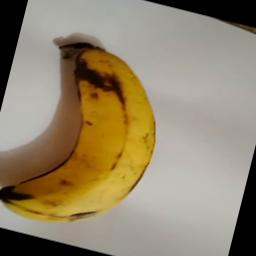Banana Unripe: (0, 28, 180, 243)
